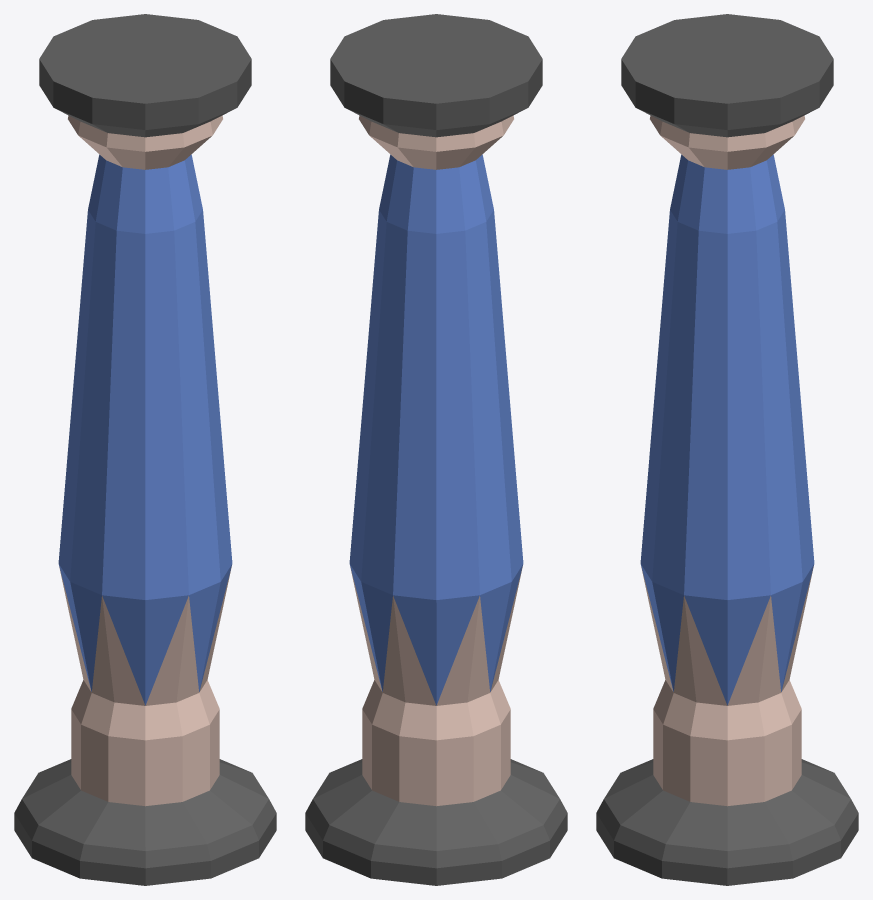
File: Column_Egypt_3.fbx
The picture shows the model from 3 angles, left to right: view 1: azimuth 30°, elevation 25°; view 2: azimuth 150°, elevation 25°; view 3: azimuth 270°, elevation 25°; orthographic projection.
Visible parts, largest first — view 1: Column_Egypt_3; view 2: Column_Egypt_3; view 3: Column_Egypt_3.
Boxes of the visible parts, <box> form: Column_Egypt_3: <box>14,14,276,885</box>; Column_Egypt_3: <box>305,14,567,885</box>; Column_Egypt_3: <box>596,14,858,885</box>.
Bounding box in the file's own units: 0.9169 × 2.98 × 0.9169.
